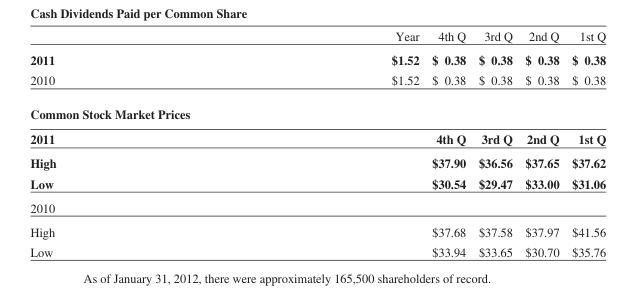table: (29, 28, 605, 258)
table column: (223, 28, 424, 258), (29, 28, 223, 258), (424, 28, 471, 258), (471, 28, 518, 258), (518, 28, 564, 258), (564, 28, 605, 258)
table column header: (29, 28, 605, 47)
table projected row header: (29, 96, 605, 126), (29, 195, 605, 219)
table row: (29, 96, 605, 126), (29, 69, 605, 96), (29, 126, 605, 150), (29, 195, 605, 219), (29, 150, 605, 173), (29, 47, 605, 69), (29, 173, 605, 195), (29, 219, 605, 241), (29, 28, 605, 47), (29, 241, 605, 258)
